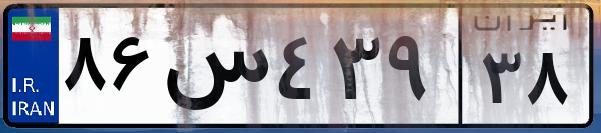3: (330, 28, 385, 110), (475, 38, 525, 113)
4: (270, 28, 330, 110)
6: (110, 28, 158, 98)
8: (57, 26, 110, 100), (525, 38, 570, 115)
9: (385, 28, 445, 110)
س: (158, 20, 270, 120)
